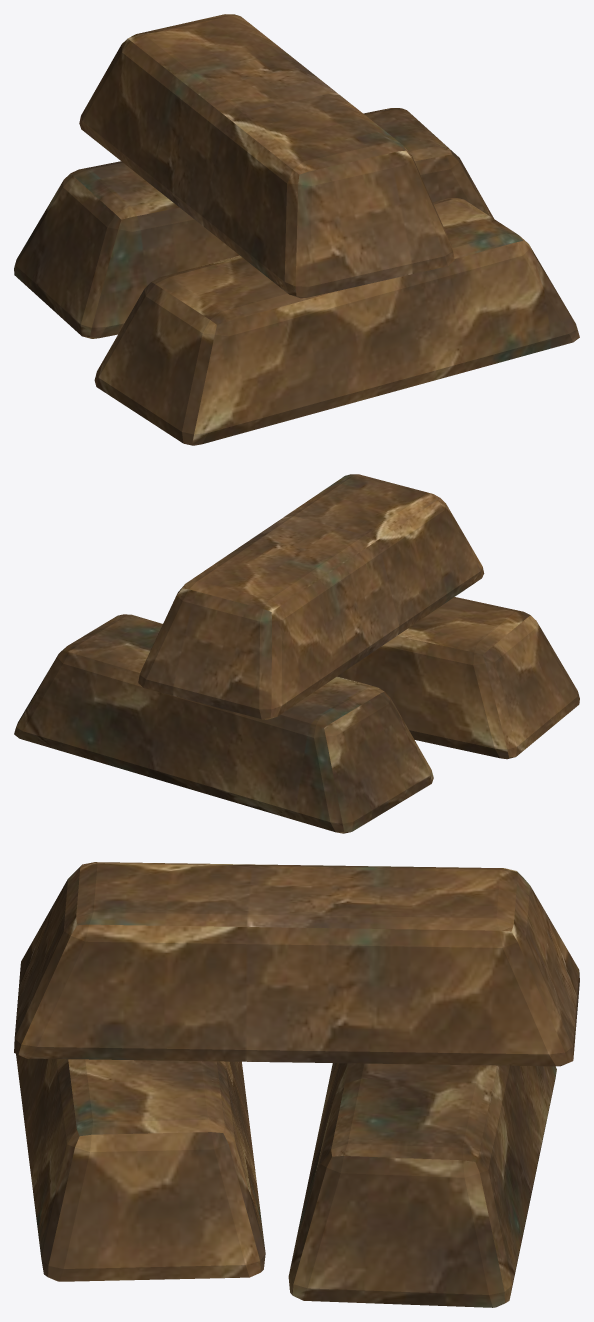
The model's file is bronze_ingot.glb.
3 renders of one model, top to bottom at view 1: azimuth 30°, elevation 25°; view 2: azimuth 150°, elevation 25°; view 3: azimuth 270°, elevation 25°, orthographic. The views are drawn at different scales.
Visible parts, largest first — view 1: model; view 2: model; view 3: model.
Part boxes in pixels (x1,y1,x2,y2): model: [14, 14, 579, 445]; model: [14, 474, 579, 833]; model: [14, 862, 579, 1307].
Bounding box in the file's own units: 0.2408 × 0.115 × 0.2162.
Materials: 3 (3 with a texture image).
